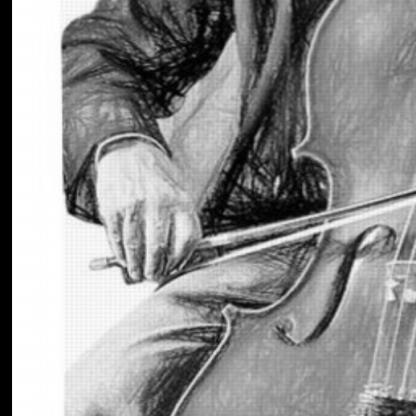good: (77, 154, 225, 292)
